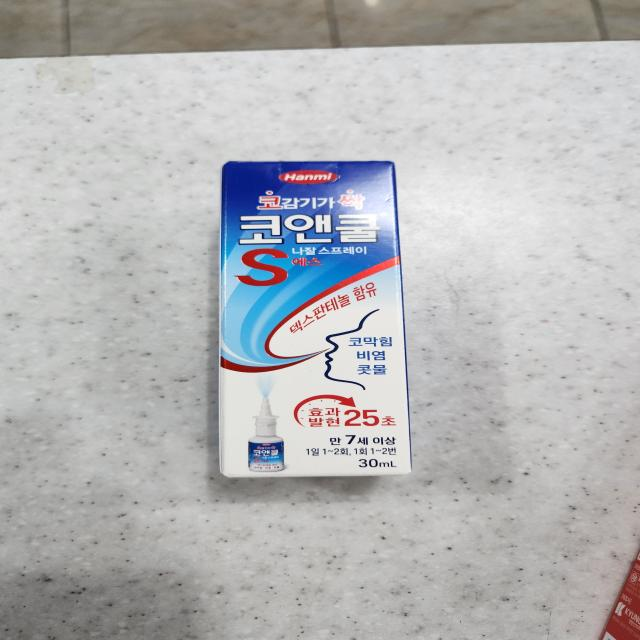box: (219, 162, 409, 475), (600, 552, 640, 640)
